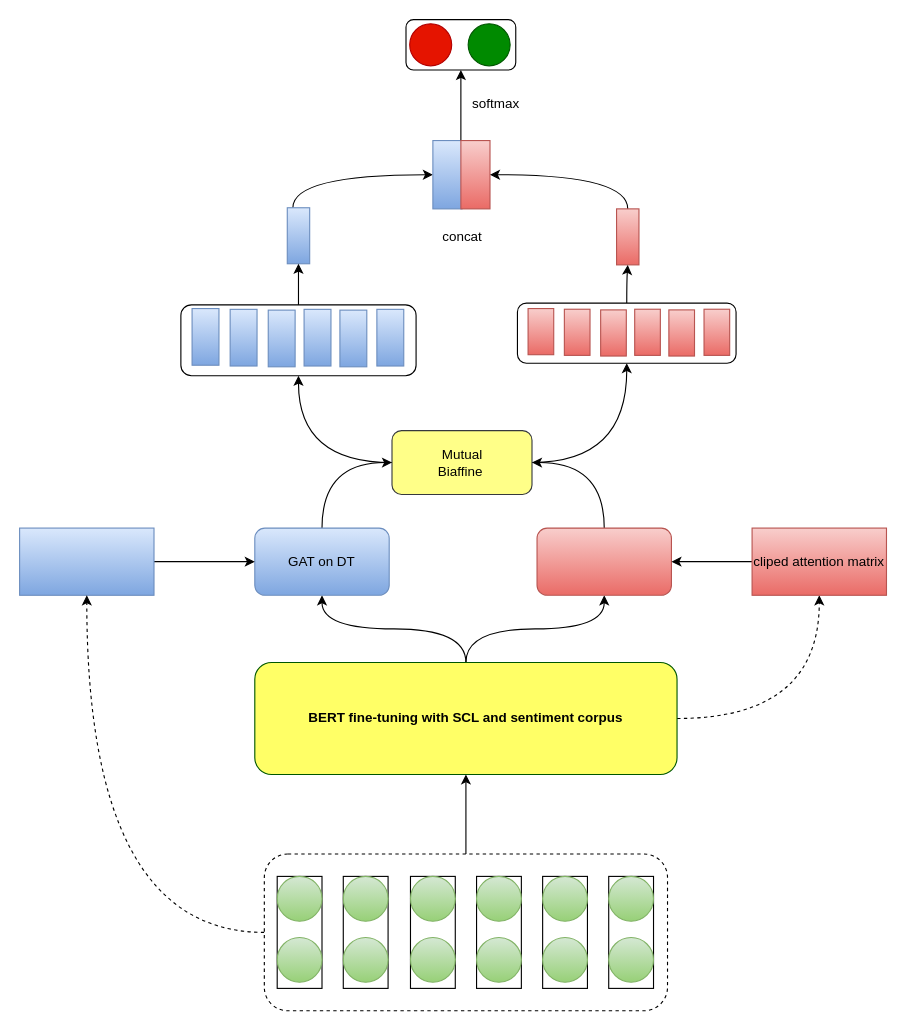
This 906x1030 diagram has some shape labels left out. The centre of each missing label's shape, as x and y in pixels:
dependency tree: the point at 86,561
GAT on Att: the point at 603,561
